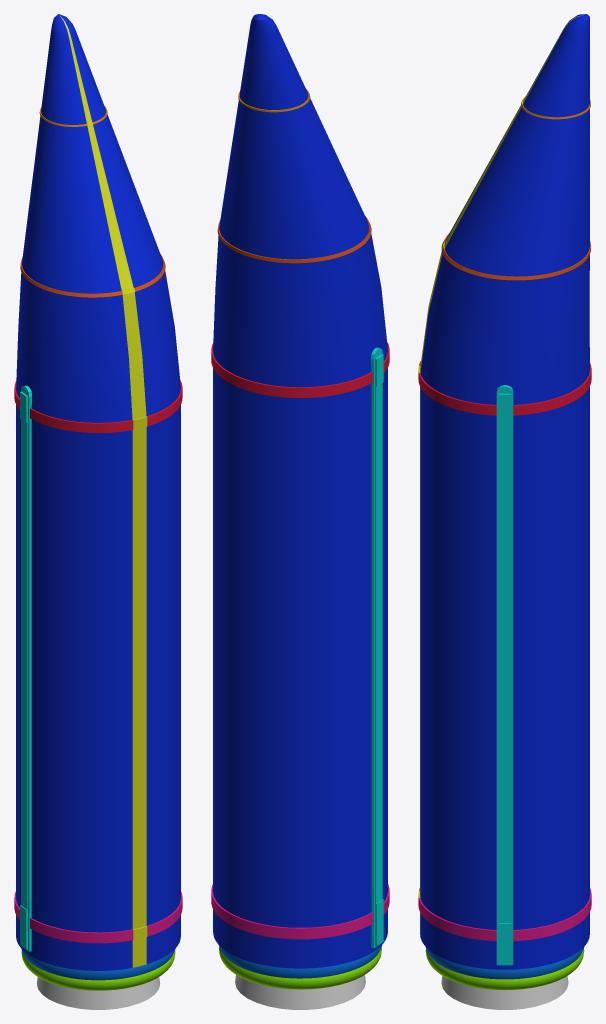
The model's file is epc_m.fbx.
3 renders of one model, left to right at view 1: azimuth 30°, elevation 25°; view 2: azimuth 150°, elevation 25°; view 3: azimuth 270°, elevation 25°, orthographic. The views are drawn at different scales.
Parts seen in each view (by area): view 1: booster, noozle; view 2: booster, noozle; view 3: booster, noozle.
Part boxes in pixels (bbox=[...]): booster: bbox=[14, 14, 182, 990]; noozle: bbox=[36, 977, 160, 1009]; booster: bbox=[211, 14, 389, 989]; noozle: bbox=[235, 975, 365, 1009]; booster: bbox=[418, 14, 591, 990]; noozle: bbox=[441, 976, 568, 1009].
Size of the model in its own units: 1.58 by 9.45 by 1.53.
